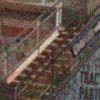stairs: (0, 24, 100, 100)
